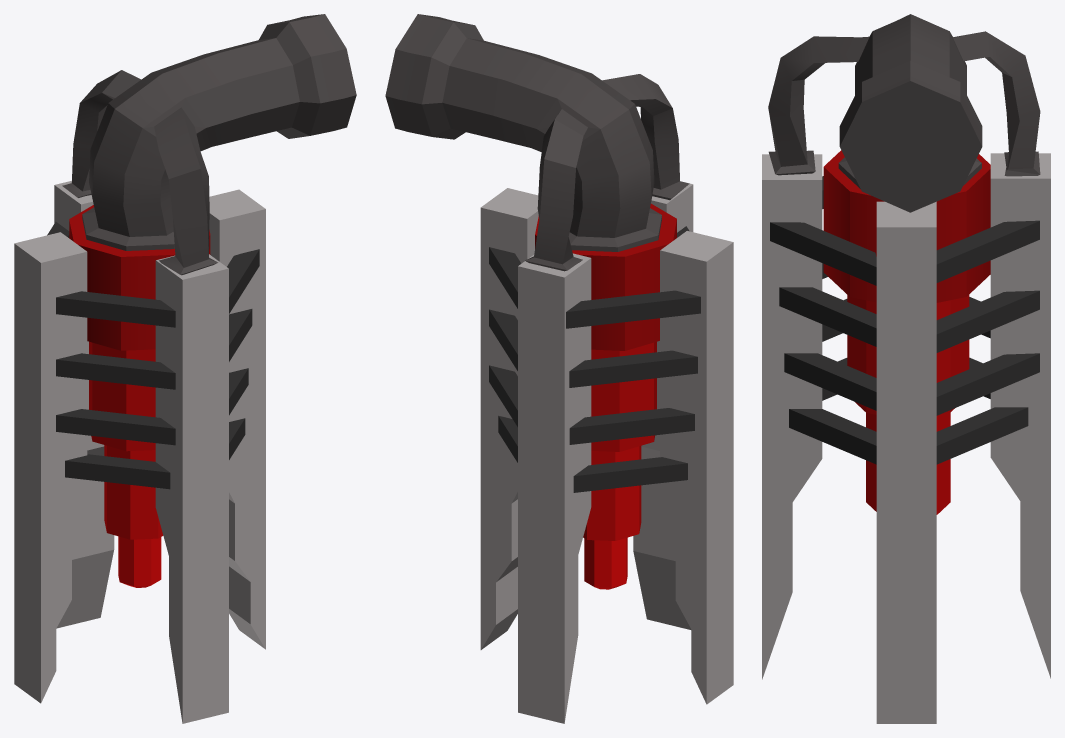
File: tower center sin historial.fbx
The picture shows the model from 3 angles, left to right: view 1: azimuth 30°, elevation 25°; view 2: azimuth 150°, elevation 25°; view 3: azimuth 270°, elevation 25°; orthographic projection. The views are drawn at different scales.
Parts seen in each view (by area): view 1: polySurface33, polySurface51, polySurface43, polySurface52, polySurface31, polySurface37, polySurface29, polySurface7, polySurface47, polySurface48, polySurface34, polySurface35 (+4 smaller); view 2: polySurface33, polySurface37, polySurface43, polySurface52, polySurface51, polySurface31, polySurface44, polySurface29, polySurface7, polySurface36, polySurface53, polySurface45 (+5 smaller); view 3: polySurface33, polySurface52, polySurface51, polySurface37, polySurface31, polySurface41, polySurface49, polySurface50, polySurface40, polySurface42, polySurface7, polySurface38 (+3 smaller).
Boxes of the visible parts, x1,y1,x2,y2 form: polySurface33: [62, 14, 356, 275]; polySurface51: [155, 254, 228, 723]; polySurface43: [14, 232, 87, 703]; polySurface52: [209, 189, 265, 649]; polySurface31: [69, 205, 210, 350]; polySurface37: [54, 180, 114, 628]; polySurface29: [104, 445, 163, 539]; polySurface7: [89, 341, 155, 451]; polySurface47: [56, 291, 175, 327]; polySurface48: [56, 353, 175, 389]; polySurface34: [56, 409, 175, 445]; polySurface35: [65, 454, 170, 489]; polySurface33: [385, 14, 689, 271]; polySurface37: [518, 253, 591, 723]; polySurface43: [660, 231, 733, 704]; polySurface52: [480, 188, 538, 649]; polySurface51: [633, 182, 693, 629]; polySurface31: [535, 203, 676, 350]; polySurface44: [566, 290, 700, 328]; polySurface29: [583, 446, 641, 540]; polySurface7: [591, 341, 656, 451]; polySurface36: [569, 350, 697, 387]; polySurface53: [569, 408, 694, 444]; polySurface45: [573, 457, 687, 492]; polySurface33: [768, 14, 1040, 212]; polySurface52: [876, 201, 936, 723]; polySurface51: [762, 154, 822, 679]; polySurface37: [990, 153, 1050, 678]; polySurface31: [823, 150, 990, 302]; polySurface41: [770, 222, 876, 285]; polySurface49: [936, 290, 1039, 352]; polySurface50: [936, 353, 1039, 415]; polySurface40: [936, 220, 1039, 282]; polySurface42: [779, 287, 876, 346]; polySurface7: [847, 295, 969, 414]; polySurface38: [784, 353, 876, 410].
Bounding box in the file's own units: 4.53 × 8.83 × 3.36.
